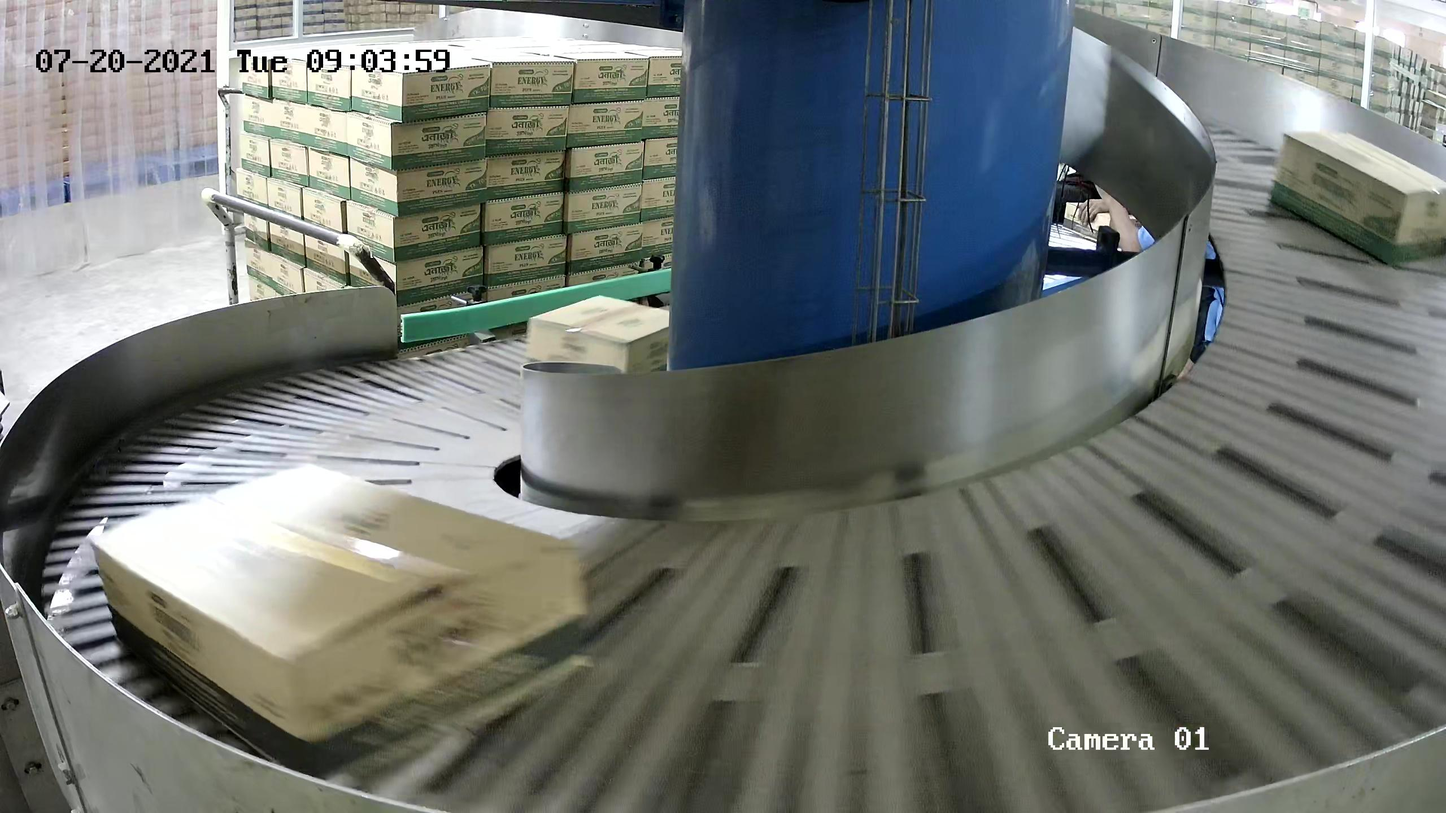Box: (94, 459, 591, 789), (1269, 128, 1446, 270)
